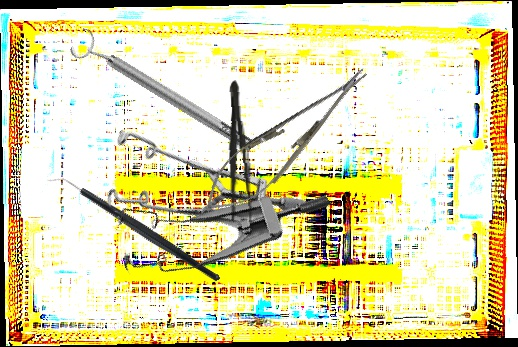Chopper: (46, 131, 221, 327)
Dressing Forceps: (220, 79, 257, 234)
Fixation Ring: (67, 24, 261, 163)
Needle Holder: (190, 53, 382, 229)
Speculum: (77, 73, 310, 307), (98, 115, 333, 315)
